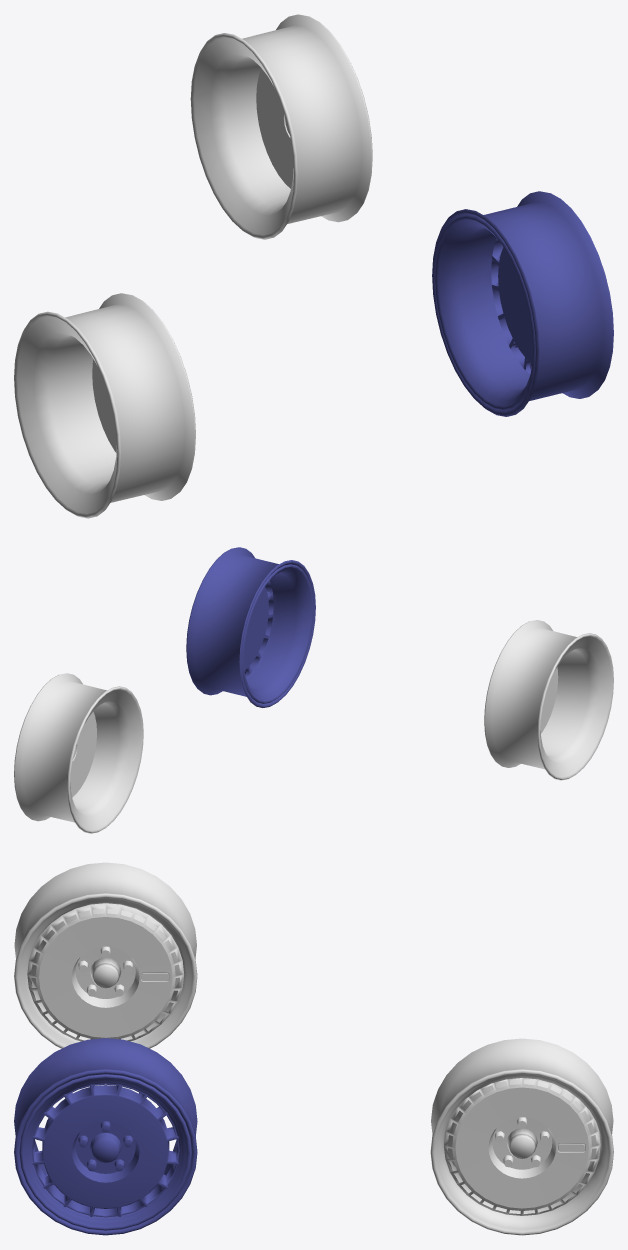
File: daewon_wheels.dae
The picture shows the model from 3 angles, top to bottom: view 1: azimuth 30°, elevation 25°; view 2: azimuth 150°, elevation 25°; view 3: azimuth 270°, elevation 25°; orthographic projection. The views are drawn at different scales.
Visible parts, largest first — view 1: seoil_aerodisk_01a_16x7_deep, seoil_aerodisk_01a_16x7, daewon_dcx_01a_16x7, daewon_dcx_01a_15x7_deep; view 2: seoil_aerodisk_01a_16x7, seoil_aerodisk_01a_16x7_deep, daewon_dcx_01a_16x7, daewon_dcx_01a_15x7_deep; view 3: seoil_aerodisk_01a_16x7_deep, seoil_aerodisk_01a_16x7, daewon_dcx_01a_16x7, daewon_dcx_01a_15x7_deep, daewon_dcx_01a_15x7.
Part boxes in pixels (x1,y1,x2,y2): seoil_aerodisk_01a_16x7_deep: [190, 14, 372, 239]; seoil_aerodisk_01a_16x7: [14, 293, 195, 518]; daewon_dcx_01a_16x7: [432, 191, 613, 416]; daewon_dcx_01a_15x7_deep: [435, 215, 535, 410]; seoil_aerodisk_01a_16x7: [484, 620, 613, 780]; seoil_aerodisk_01a_16x7_deep: [14, 673, 143, 833]; daewon_dcx_01a_16x7: [186, 547, 315, 707]; daewon_dcx_01a_15x7_deep: [242, 564, 313, 703]; seoil_aerodisk_01a_16x7_deep: [430, 1038, 613, 1235]; seoil_aerodisk_01a_16x7: [14, 862, 197, 1048]; daewon_dcx_01a_16x7: [14, 1038, 197, 1235]; daewon_dcx_01a_15x7_deep: [19, 1074, 191, 1230]; daewon_dcx_01a_15x7: [29, 1082, 181, 1220].
Bounding box in the file's own units: 1.19 × 1.44 × 0.4406.
